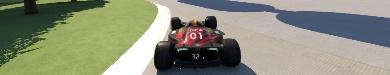Car: (153, 15, 241, 69)
Tree: (22, 0, 38, 14)
grass: (0, 0, 157, 74)
